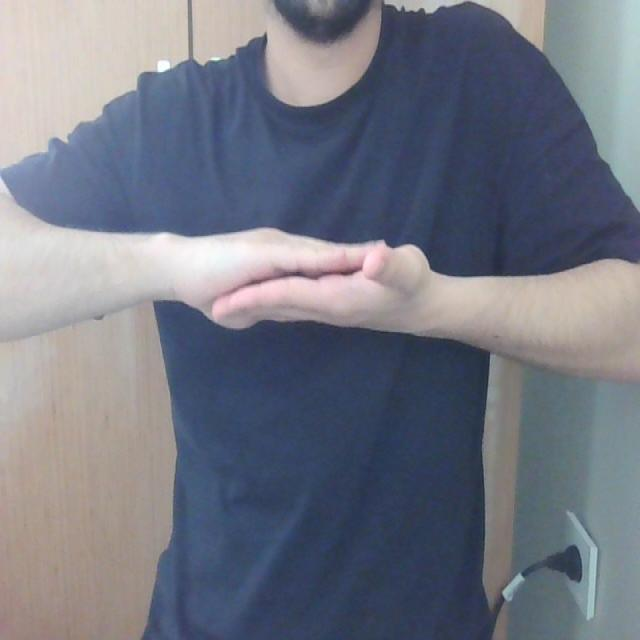Arkadas: (6, 211, 640, 355)
